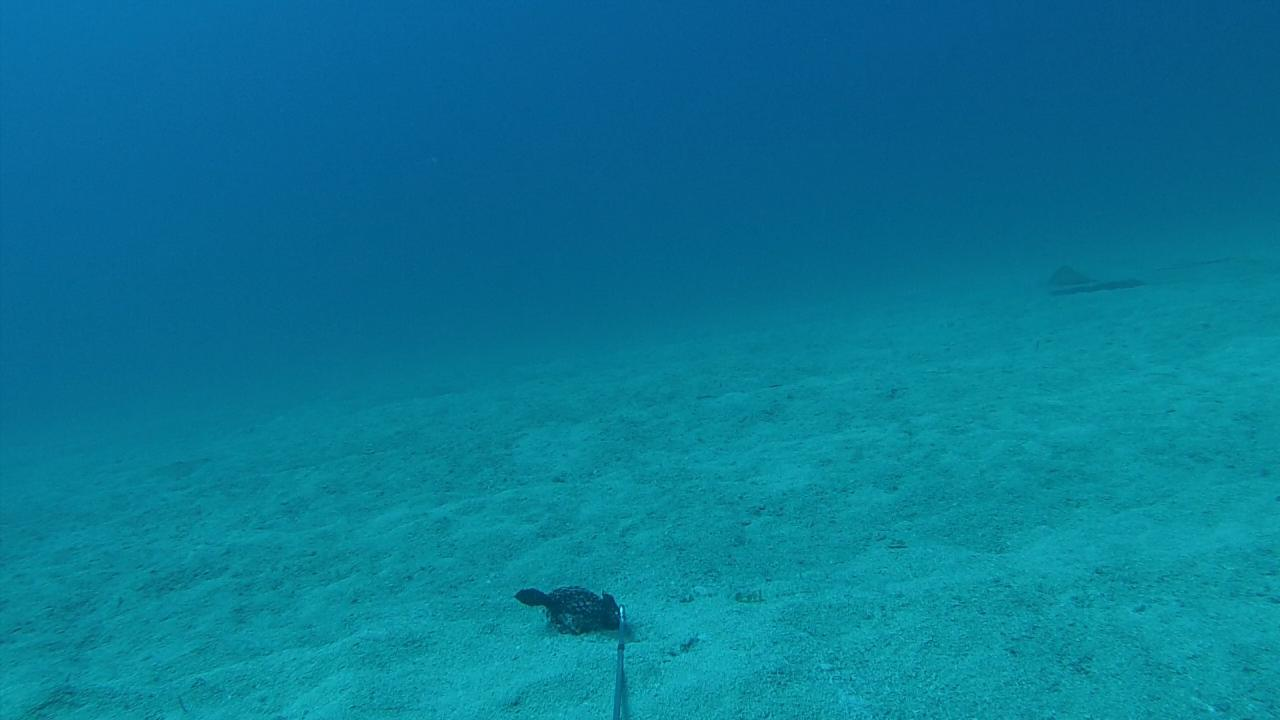dasyatis: (1042, 257, 1232, 292)
